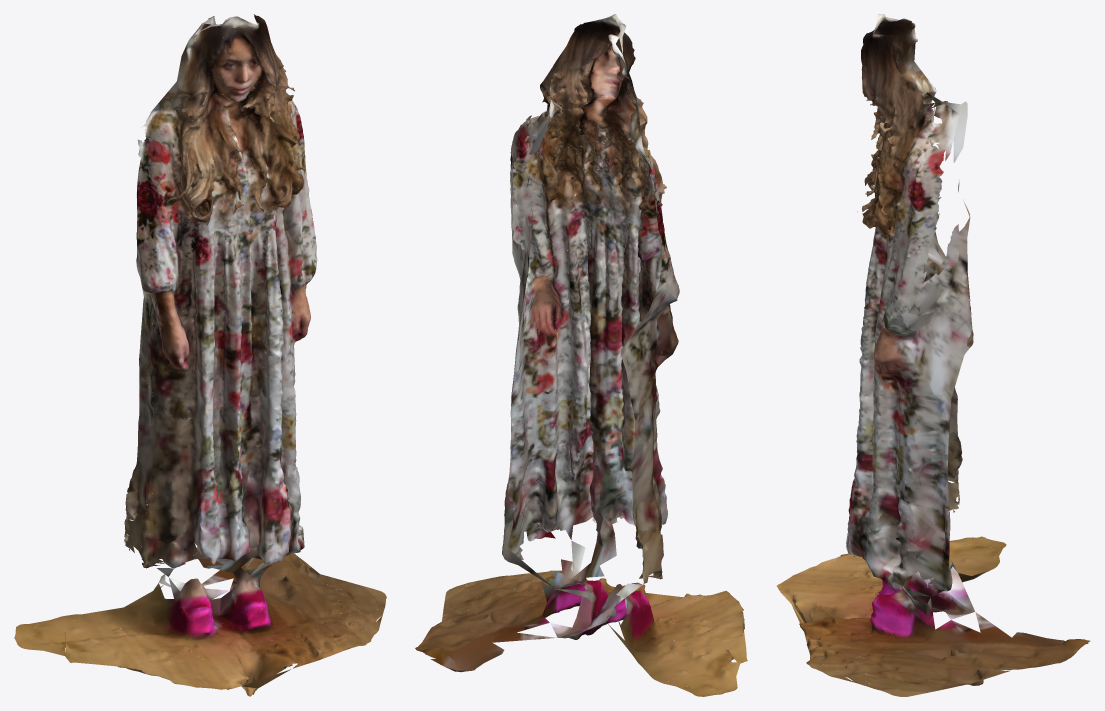
File: ferdress3.glb
The picture shows the model from 3 angles, left to right: view 1: azimuth 30°, elevation 25°; view 2: azimuth 150°, elevation 25°; view 3: azimuth 270°, elevation 25°; orthographic projection. The views are drawn at different scales.
Parts seen in each view (by area): view 1: mesh; view 2: mesh; view 3: mesh.
Boxes of the visible parts, bbox=[...] form: mesh: bbox=[14, 14, 386, 696]; mesh: bbox=[415, 14, 747, 696]; mesh: bbox=[776, 14, 1090, 696].
Size of the model in its own units: 0.9675 by 1.85 by 0.8189.
Materials: 1 (1 with a texture image).
